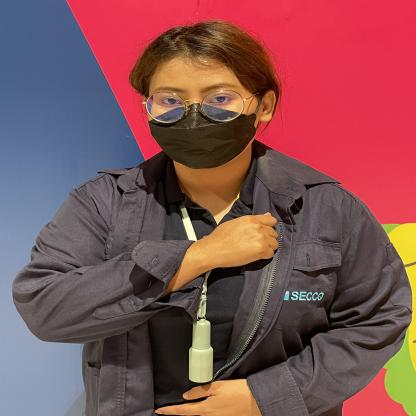Sadness: (100, 202, 326, 293)
